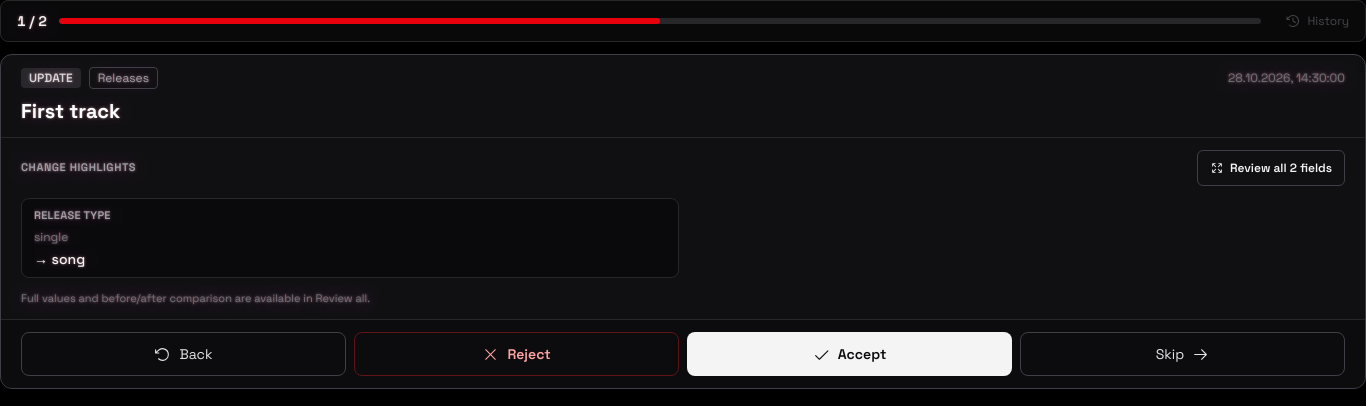
Scenario: AI content review carousel › skips and returns without submitting a review
Click the button "Skip".
click(1182, 354)  # box [1020, 332, 1345, 376]
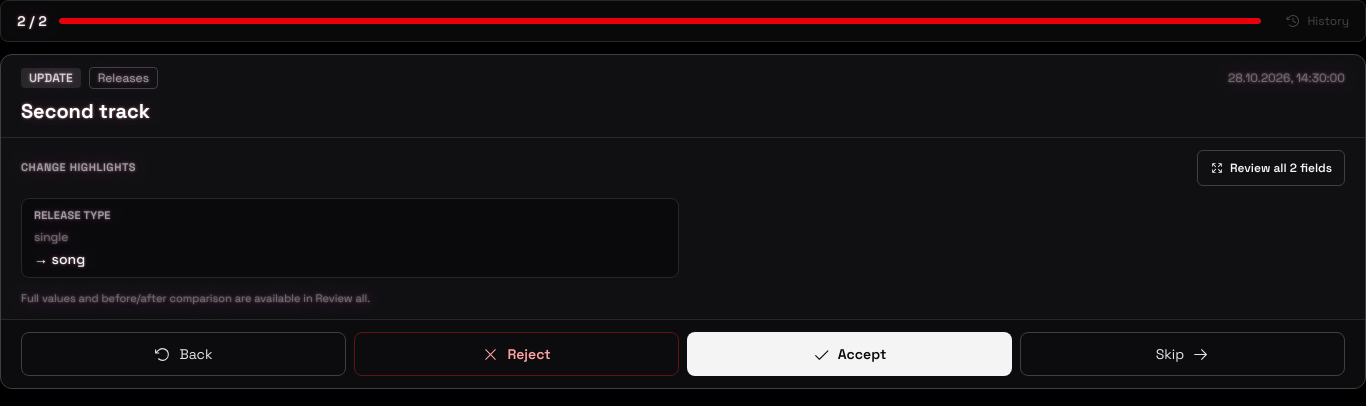
Expected: the heading "Second track" is shown, [21, 98, 150, 124]
Click the button "Back".
click(184, 354)  # box [21, 332, 346, 376]
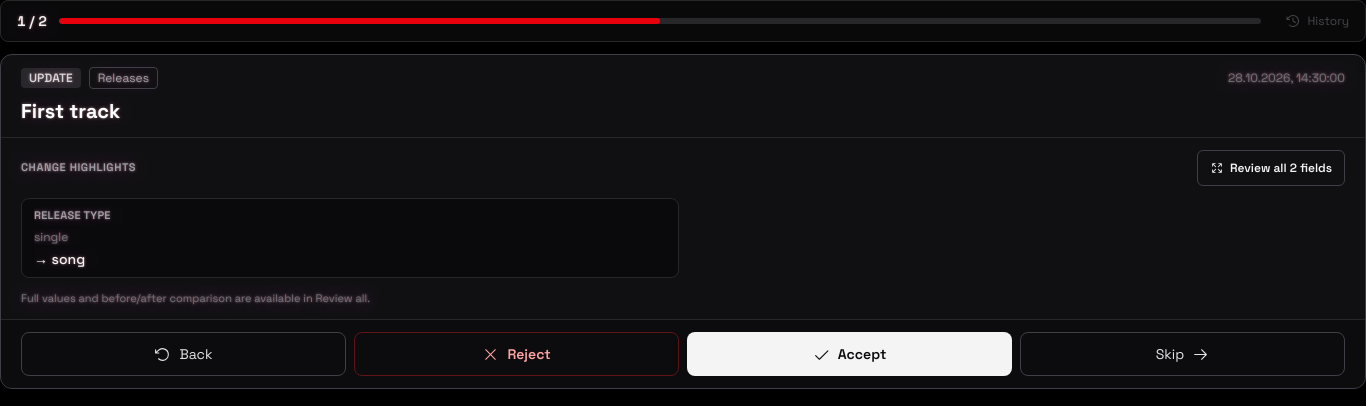
Expected: the heading "First track" is shown, [21, 98, 120, 124]
